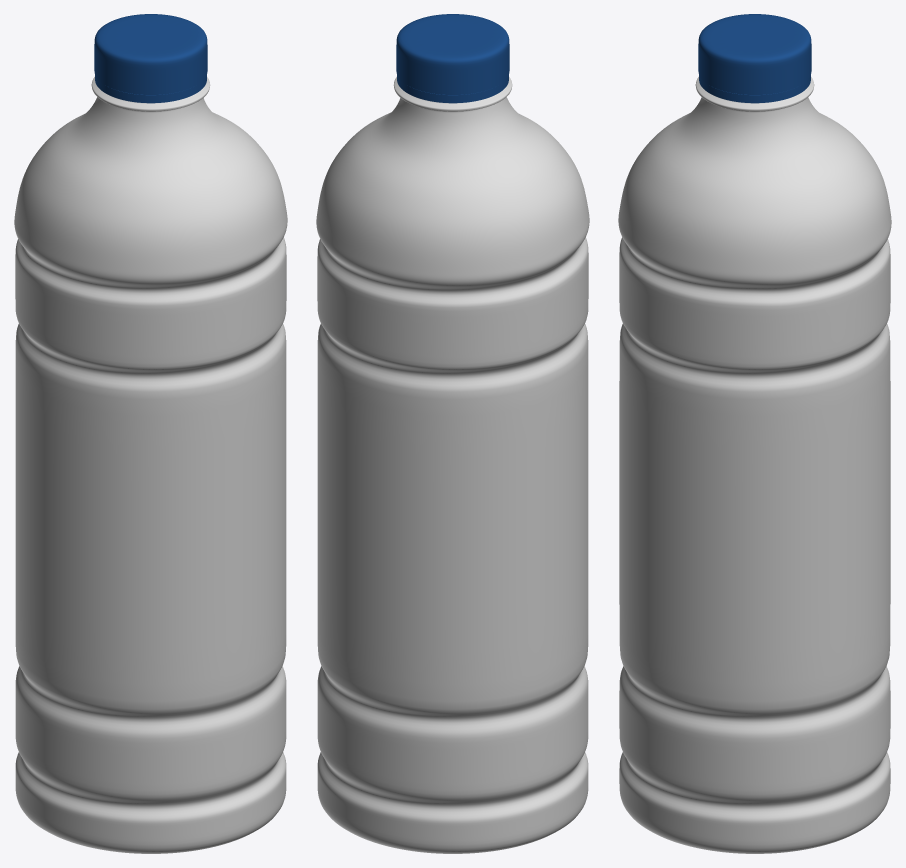
File: PrototypeWaterBottle.fbx
3 views of the same model, side by side, from view 1: azimuth 30°, elevation 25°; view 2: azimuth 150°, elevation 25°; view 3: azimuth 270°, elevation 25° (orthographic).
Parts seen in each view (by area): view 1: Bottle, Cap; view 2: Bottle, Cap; view 3: Bottle, Cap.
Boxes of the visible parts, x1,y1,x2,y2 form: Bottle: (14, 77, 287, 853); Cap: (94, 14, 207, 103); Bottle: (316, 77, 589, 853); Cap: (396, 14, 509, 103); Bottle: (618, 77, 891, 853); Cap: (698, 14, 811, 103).
Bounding box in the file's own units: 0.1451 × 0.1451 × 0.4507.
